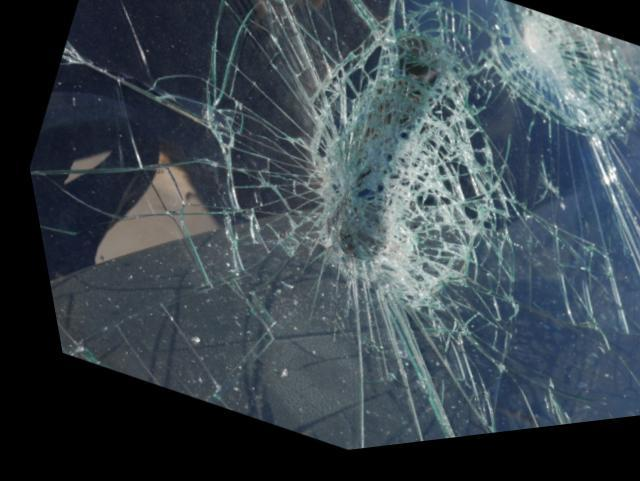glass shatter: (23, 0, 640, 456)
